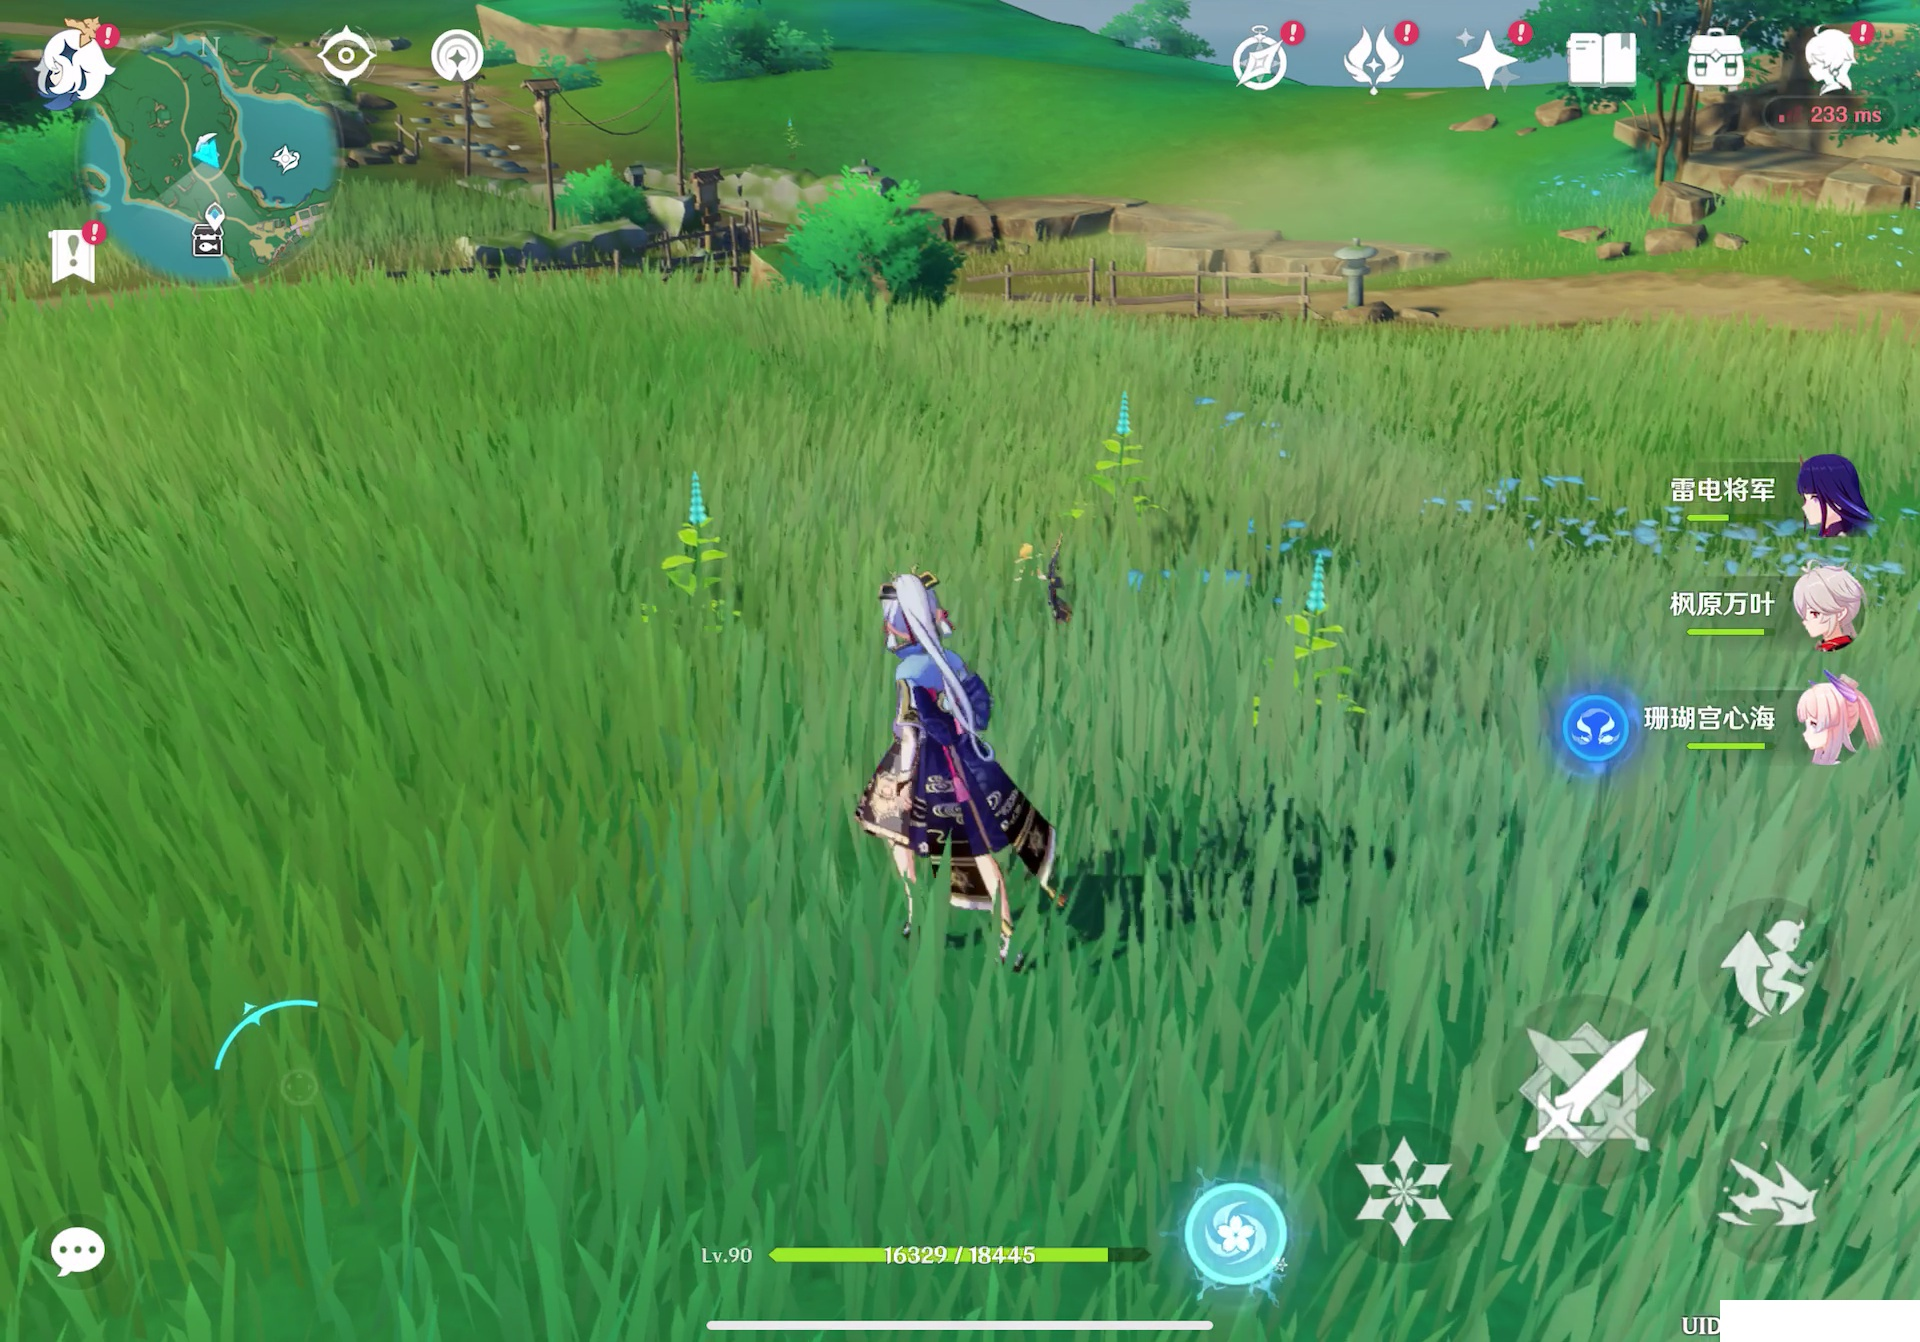没用的甜甜花: (995, 521, 1050, 605)
没用的薄荷: (1242, 538, 1380, 759), (1064, 372, 1188, 554), (645, 457, 753, 645)
神里绫龟: (845, 553, 1061, 958)
